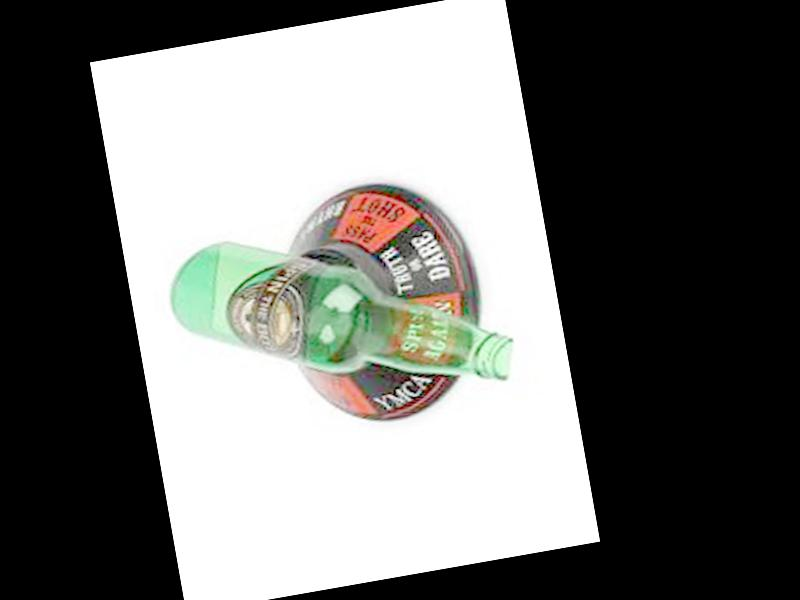Beer: (162, 193, 519, 432)
